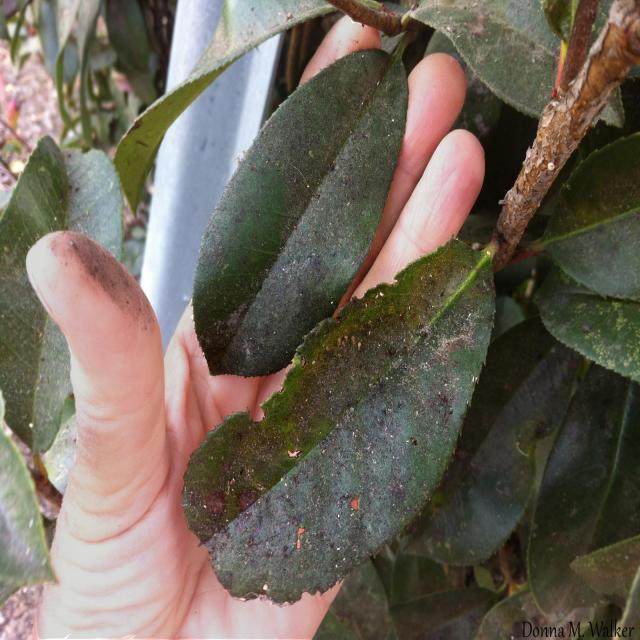Sooty Mold: (180, 235, 498, 606), (190, 46, 410, 378), (482, 0, 638, 274)
